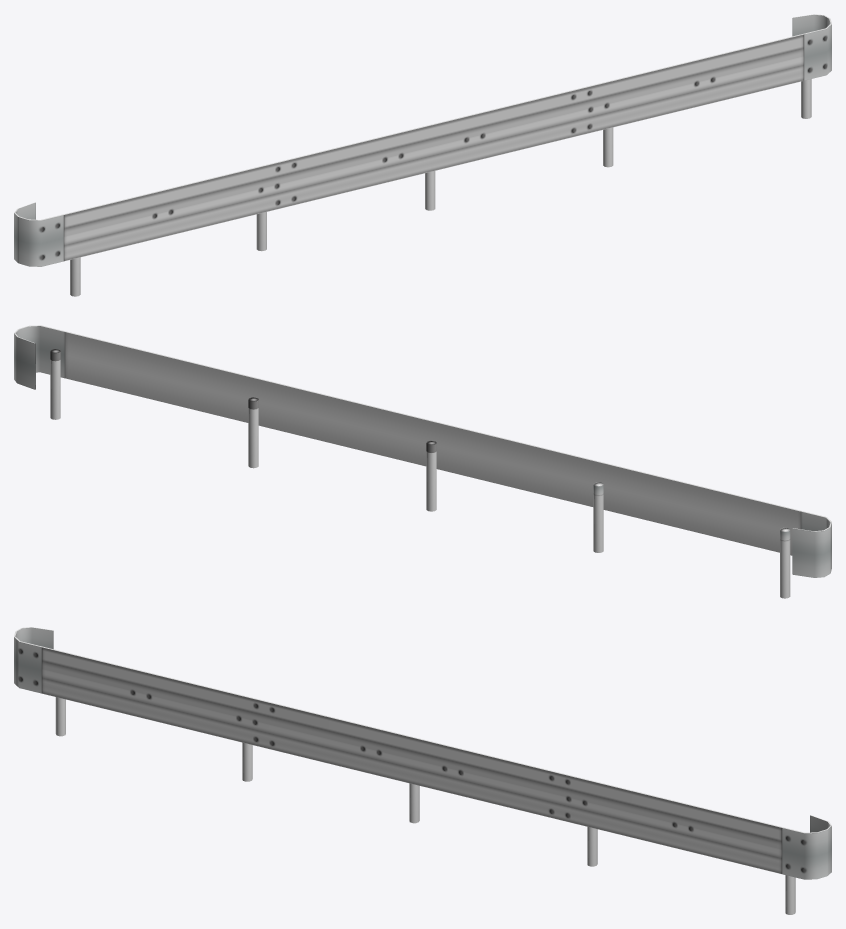
File: Guardrail.fbx
The picture shows the model from 3 angles, top to bottom: view 1: azimuth 30°, elevation 25°; view 2: azimuth 150°, elevation 25°; view 3: azimuth 330°, elevation 25°; orthographic projection.
Visible parts, largest first — view 1: polySurface2; view 2: polySurface2; view 3: polySurface2.
Boxes of the visible parts, x1=… form: polySurface2: x1=14, y1=14, x2=831, y2=296; polySurface2: x1=14, y1=325, x2=831, y2=598; polySurface2: x1=14, y1=627, x2=831, y2=914.
Bounding box in the file's own units: 1324 × 134 × 56.91.
Materials: 1 (1 with a texture image).
